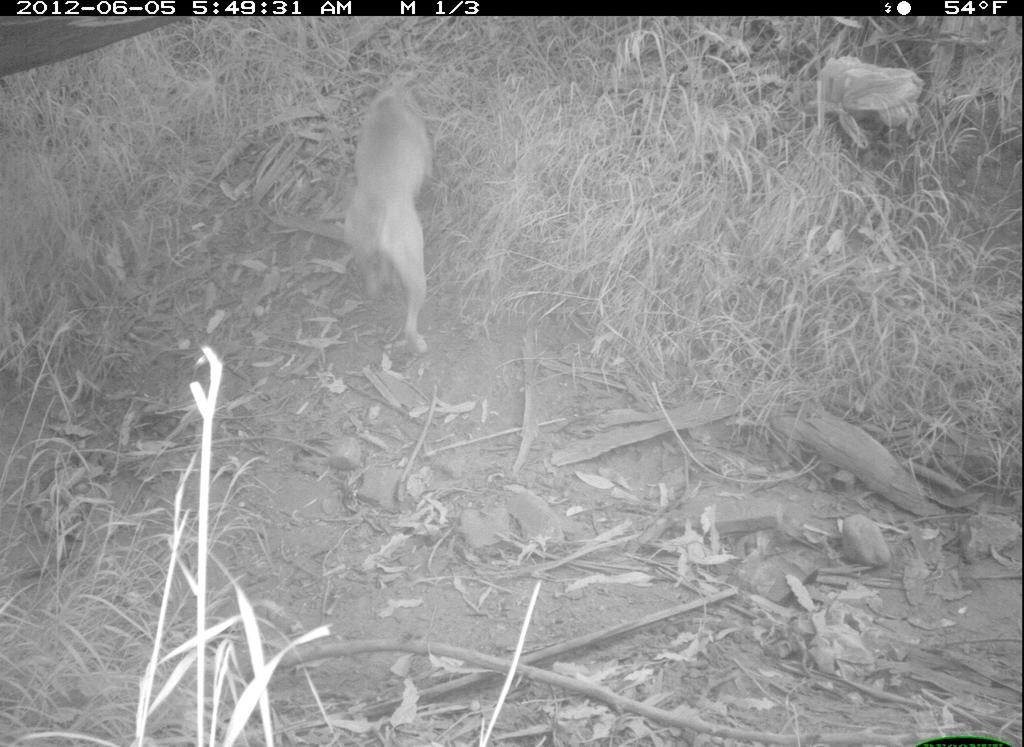dog: (324, 76, 476, 364)
